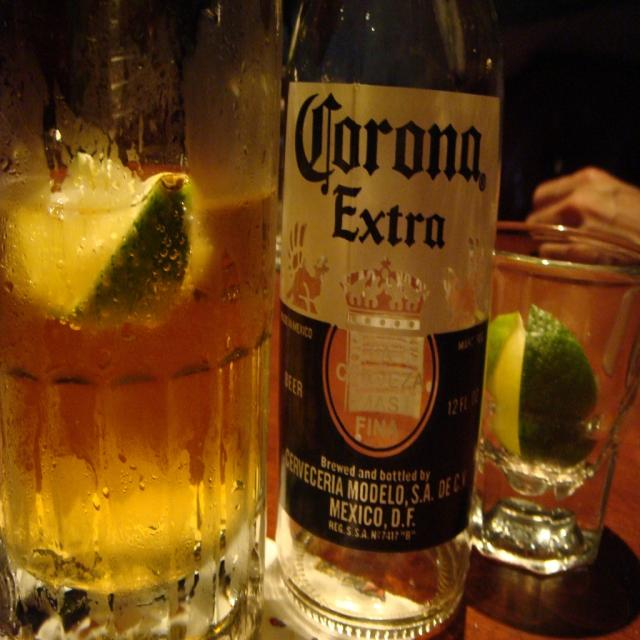corona: (280, 82, 500, 554)
